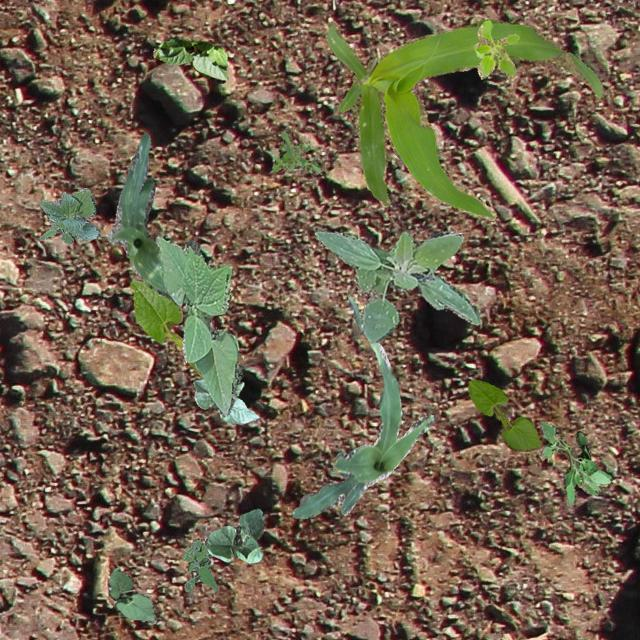crop: (326, 18, 604, 220), (290, 296, 434, 518), (154, 234, 242, 416), (106, 132, 168, 298), (128, 280, 202, 376), (466, 380, 540, 450), (38, 186, 98, 242), (152, 38, 226, 82), (204, 508, 264, 562), (192, 378, 258, 422), (108, 566, 156, 622)
weed: (314, 228, 480, 342), (538, 420, 610, 506), (473, 18, 518, 78), (272, 128, 321, 174), (182, 538, 216, 590)
